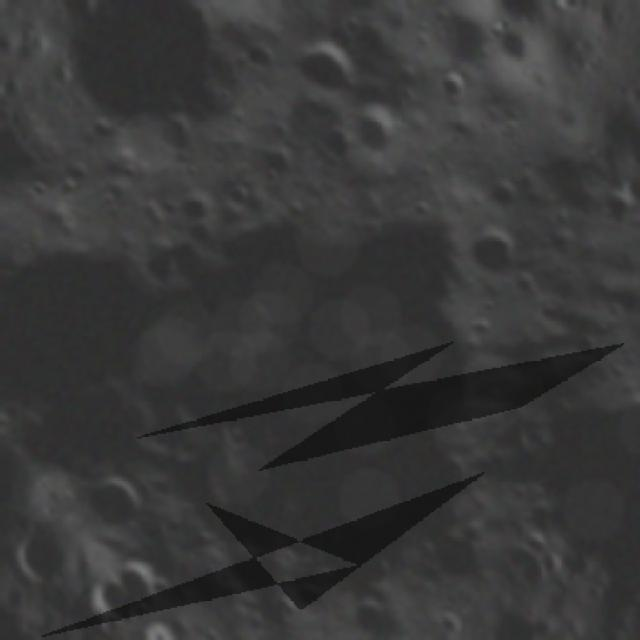crater: (70, 454, 155, 540), (337, 84, 414, 162), (288, 23, 362, 99), (114, 542, 186, 615), (462, 217, 530, 286), (150, 104, 212, 170), (338, 581, 397, 639), (427, 59, 479, 110)
